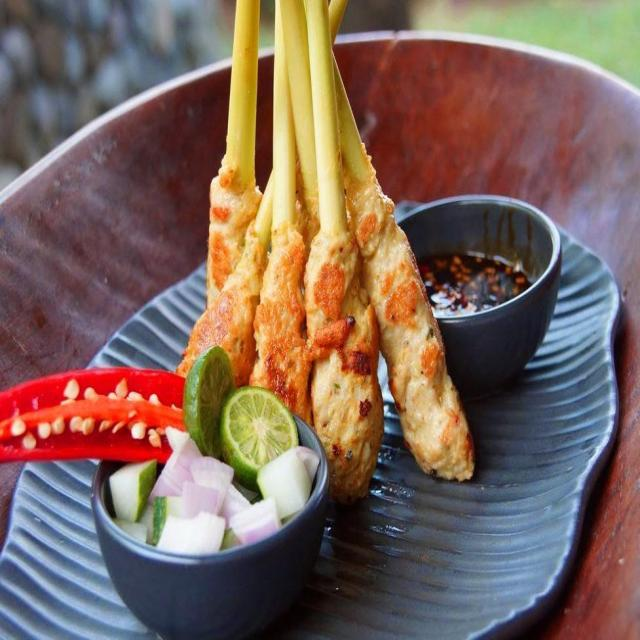Sate: (168, 0, 490, 495)
